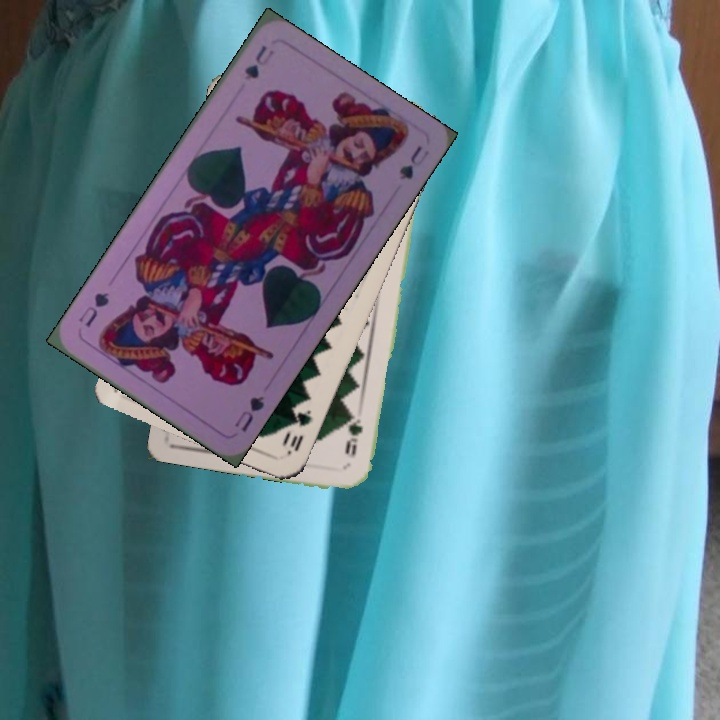G10: (283, 405, 314, 458)
G9: (341, 408, 366, 460)
GU: (230, 391, 267, 435), (240, 41, 277, 83)
